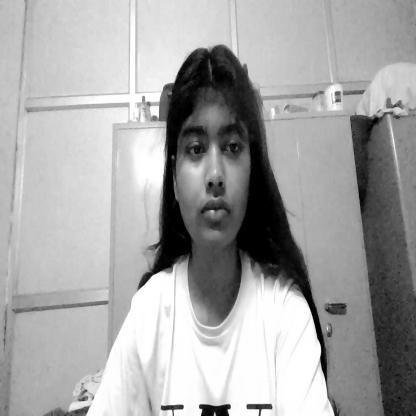Normal: (166, 47, 257, 260)
